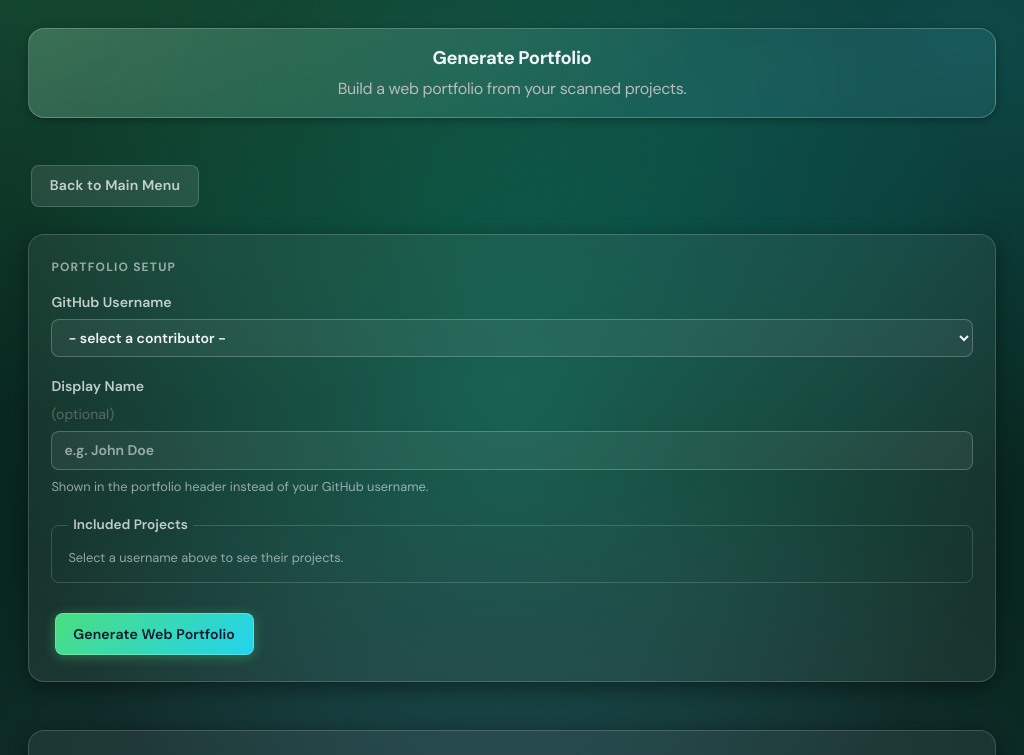
Scenario: PortfolioPage › loads project heatmap with project scope by default
This screenshot has width=1024, height=755.
Expected: the button "Generate Web Portfolio" is shown, [55,613,254,655]
Select "alice" in the dropdown at coordinates (512, 338), box [51,319,973,357]
(page scrolled)
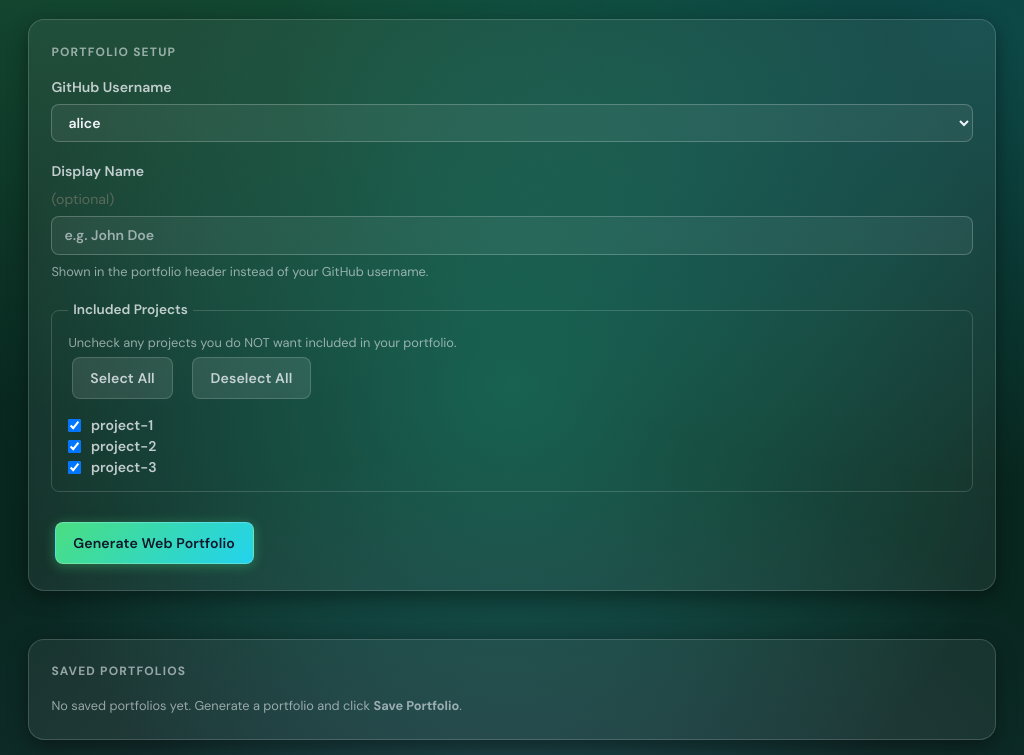
Click the button "Generate Web Portfolio" at coordinates (154, 543), box [55,522,254,564]
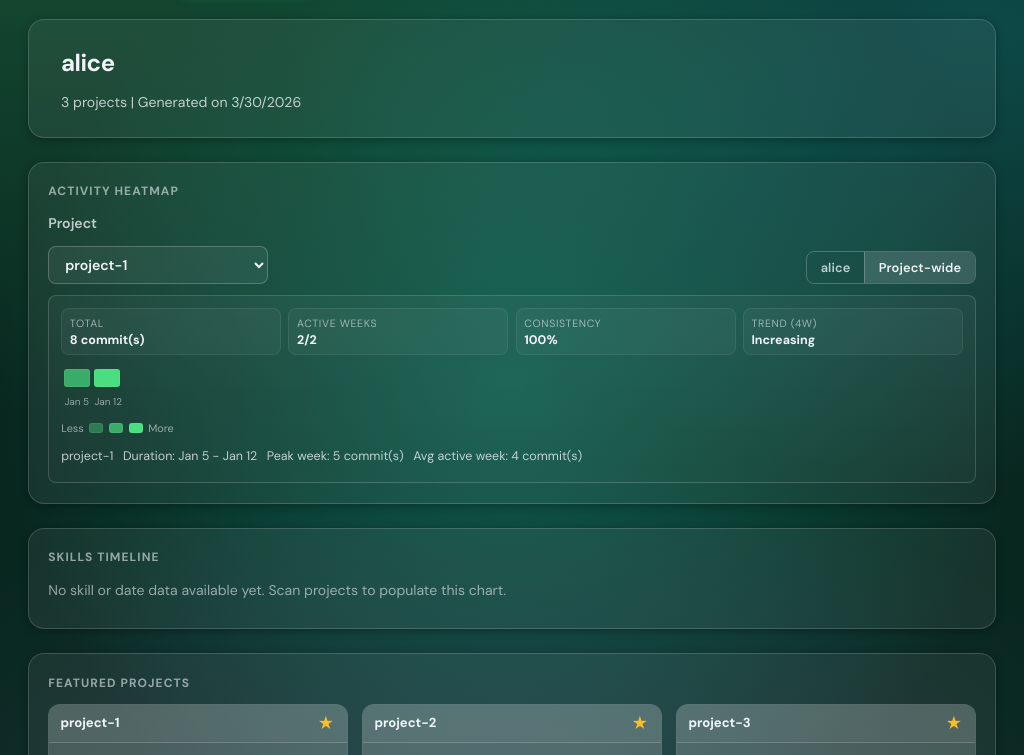
Expected: the heading "Activity Heatmap" is shown, [48,183,179,199]
